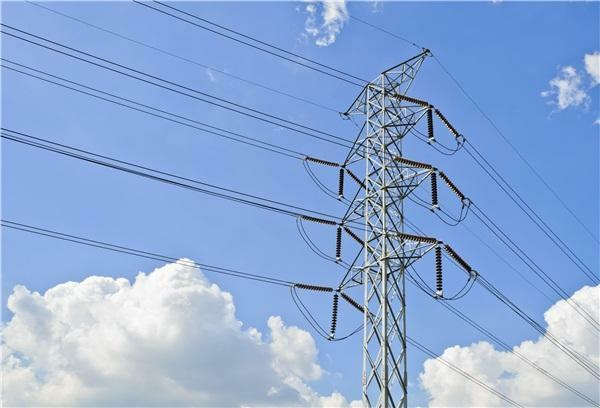power_tower: (302, 41, 487, 408)
